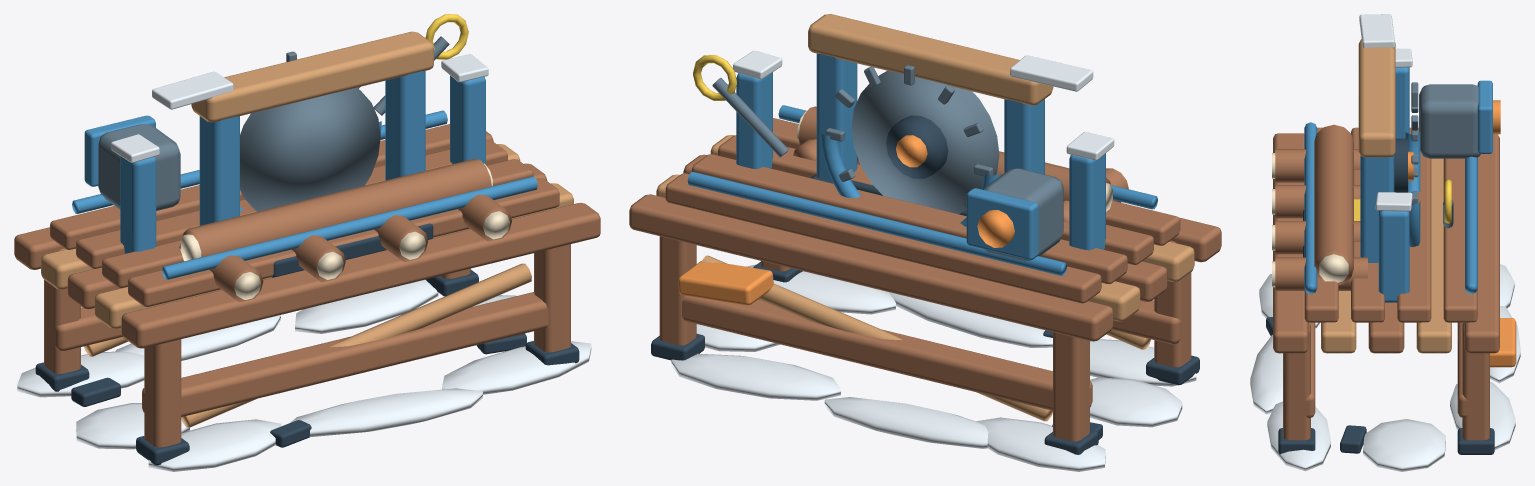
Rendered from processing_counter.glb.
3 views of the same model, side by side, from view 1: azimuth 30°, elevation 25°; view 2: azimuth 150°, elevation 25°; view 3: azimuth 270°, elevation 25° (orthographic). The views are drawn at different scales.
Parts seen in each view (by area): view 1: processing_counter; view 2: processing_counter; view 3: processing_counter.
Boxes of the visible parts, bbox=[...] form: processing_counter: bbox=[14, 14, 600, 471]; processing_counter: bbox=[629, 14, 1221, 471]; processing_counter: bbox=[1250, 14, 1520, 471].
Bounding box in the file's own units: 3.2 × 2.11 × 1.75.
